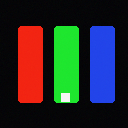1 square: (61, 93, 69, 101)
